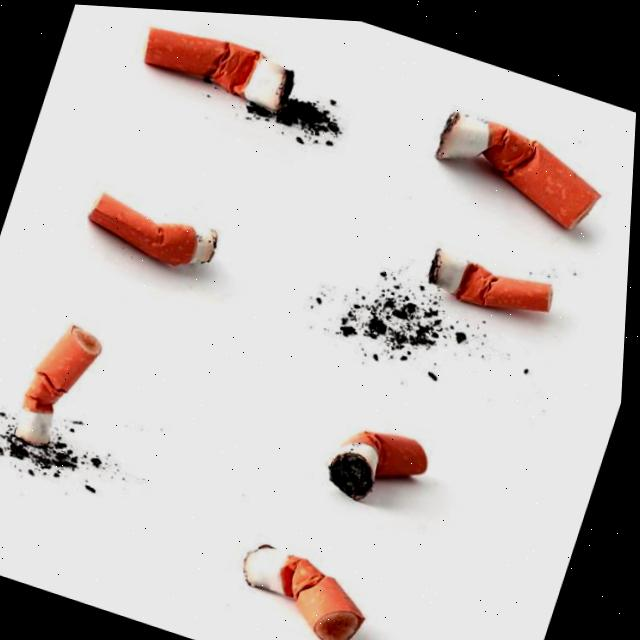cigarette: (434, 114, 600, 230), (142, 28, 293, 113), (240, 545, 366, 640), (11, 323, 101, 447), (87, 191, 218, 269), (431, 252, 554, 311), (326, 431, 429, 500)
